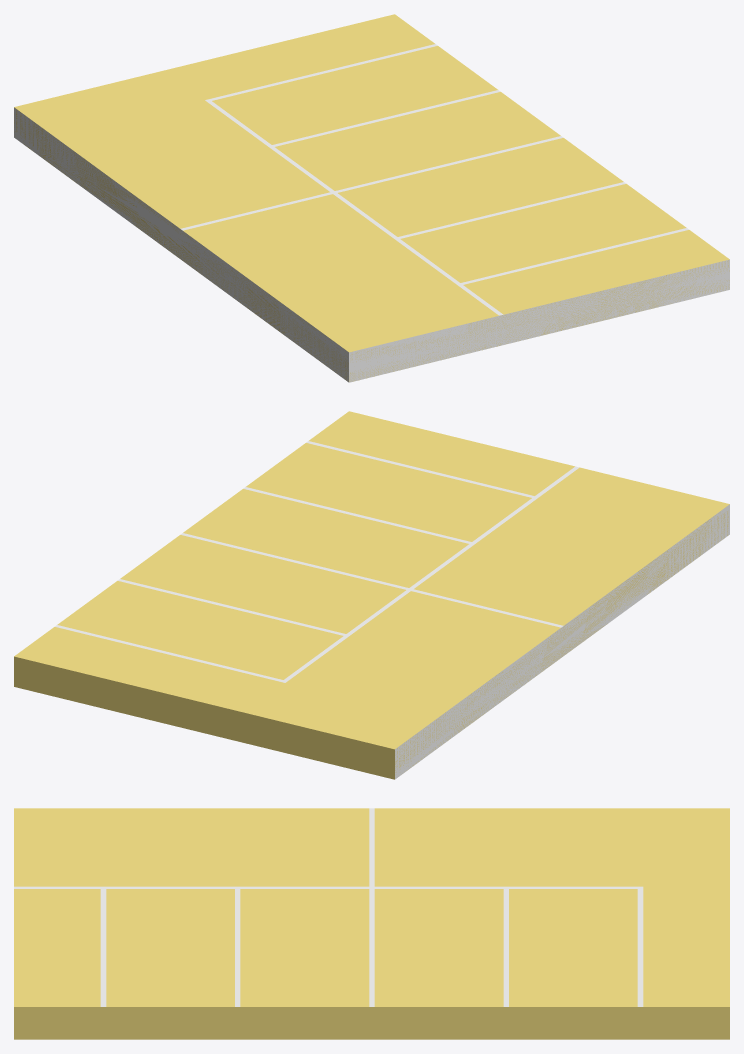
The picture shows the model from 3 angles, top to bottom: view 1: azimuth 30°, elevation 25°; view 2: azimuth 150°, elevation 25°; view 3: azimuth 270°, elevation 25°; orthographic projection. The views are drawn at different scales.
Parts seen in each view (by area): view 1: instance_0, instance_0.001; view 2: instance_0, instance_0.001; view 3: instance_0, instance_0.001.
Boxes of the visible parts, box(x1,y1,x2,y2) form: instance_0: box(14, 14, 729, 382); instance_0.001: box(180, 44, 688, 315); instance_0: box(14, 411, 729, 779); instance_0.001: box(55, 441, 579, 682); instance_0: box(14, 808, 729, 1039); instance_0.001: box(14, 808, 643, 1006).
Bounding box in the file's own units: 2.63 × 4 × 0.2.
